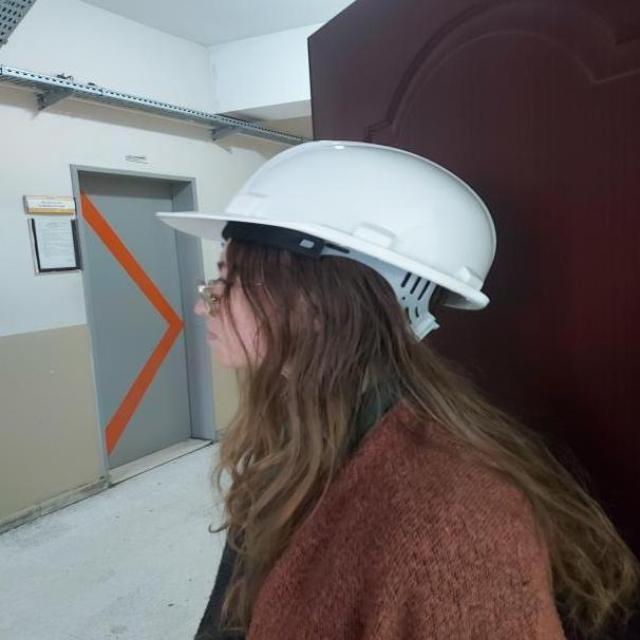white helmet: (169, 130, 507, 316)
